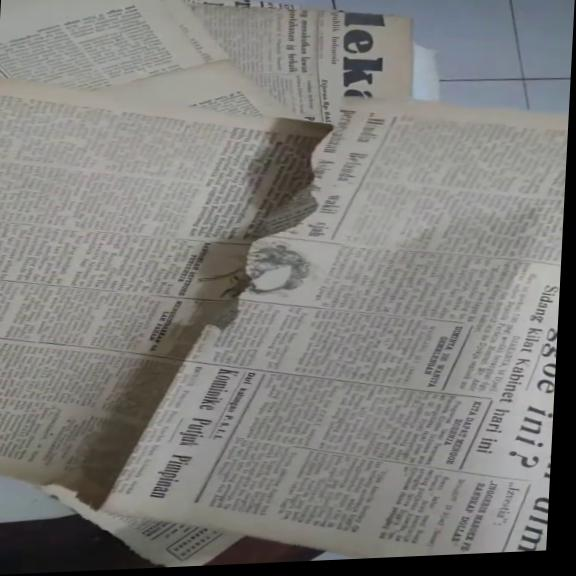Kertas: (153, 351, 554, 564), (291, 99, 570, 275), (163, 0, 424, 129)
